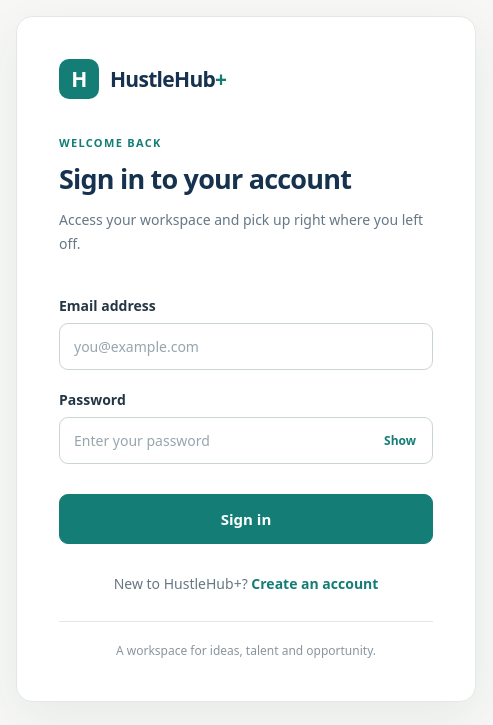
Test: LoginPage › locks the button while the request is running
Type "freya@example.com" into the field labelled "Email address" at (246, 346), box [59,323,433,370]
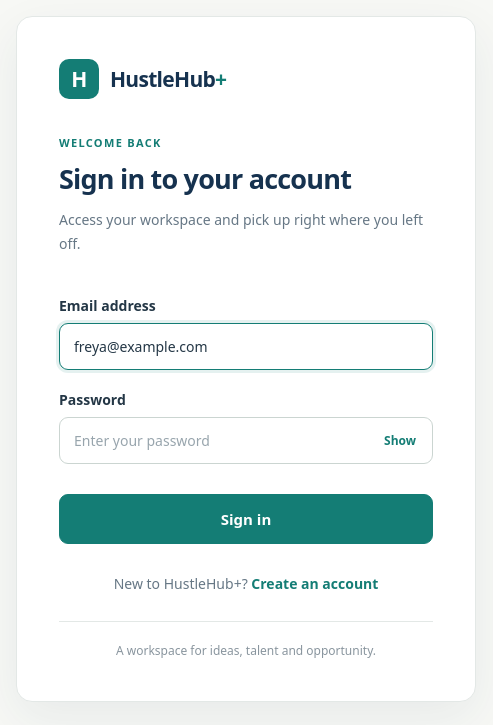
Type "Hustle#2026pass" into the password field labelled "Password" at (246, 440), box [59,417,433,464]
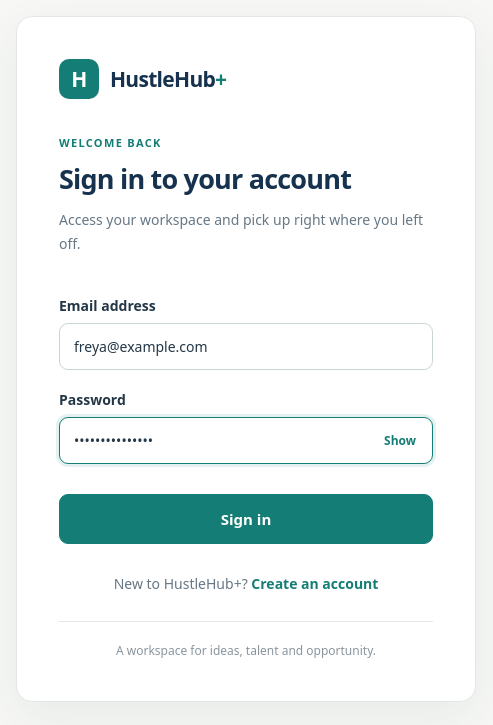
Click the button "Sign in" at (246, 519), box [59,494,433,544]
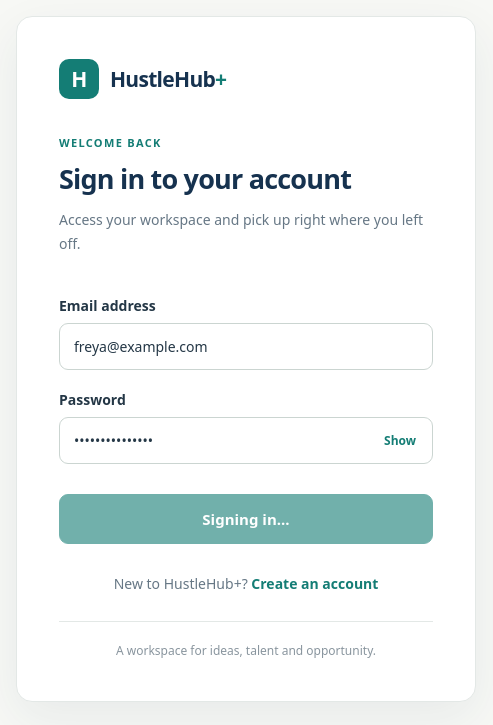
Check: the button "Signing in..." is disabled, box [59,494,433,544]
